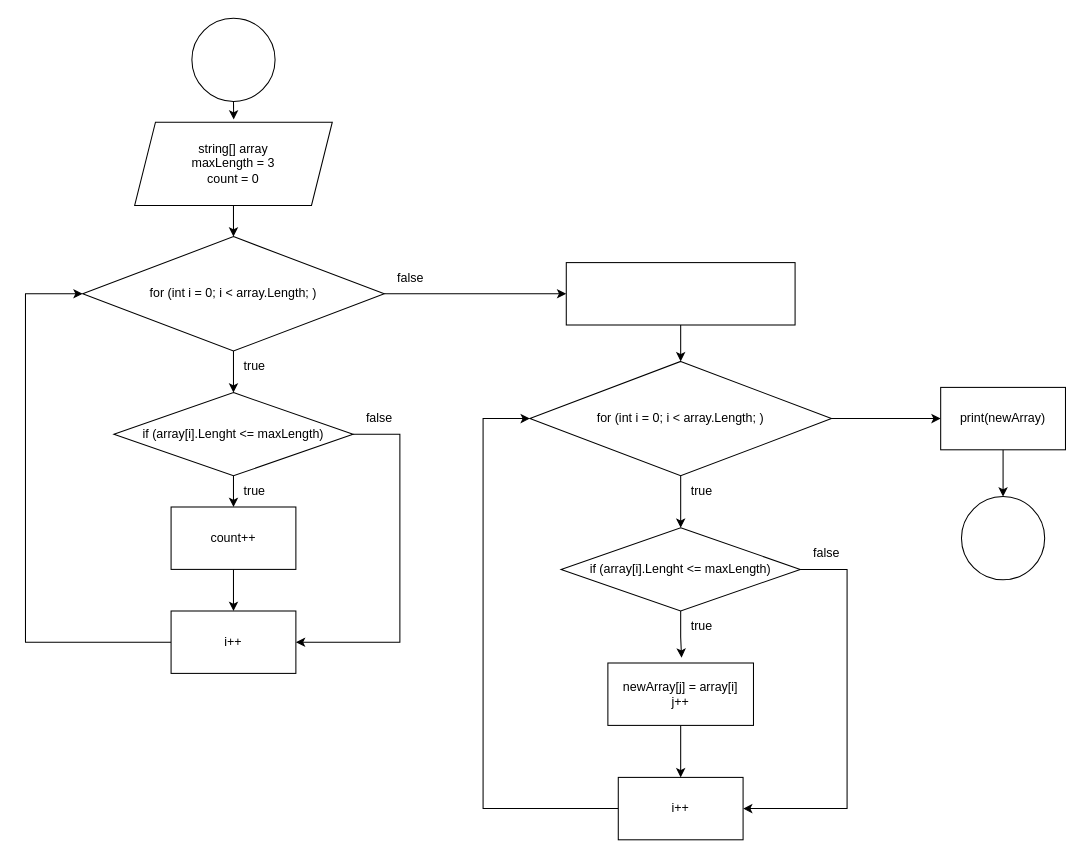
Image size: 1084x858. Some labels were removed from this diagram. The shapes that lost their labels are listed below. From the top down, each one's centre as x and y in pixels, then its label:
At (233,59): "Start".
At (680,293): "string[] newArray = new string[count] int j = 0".
At (1002,538): "End".
